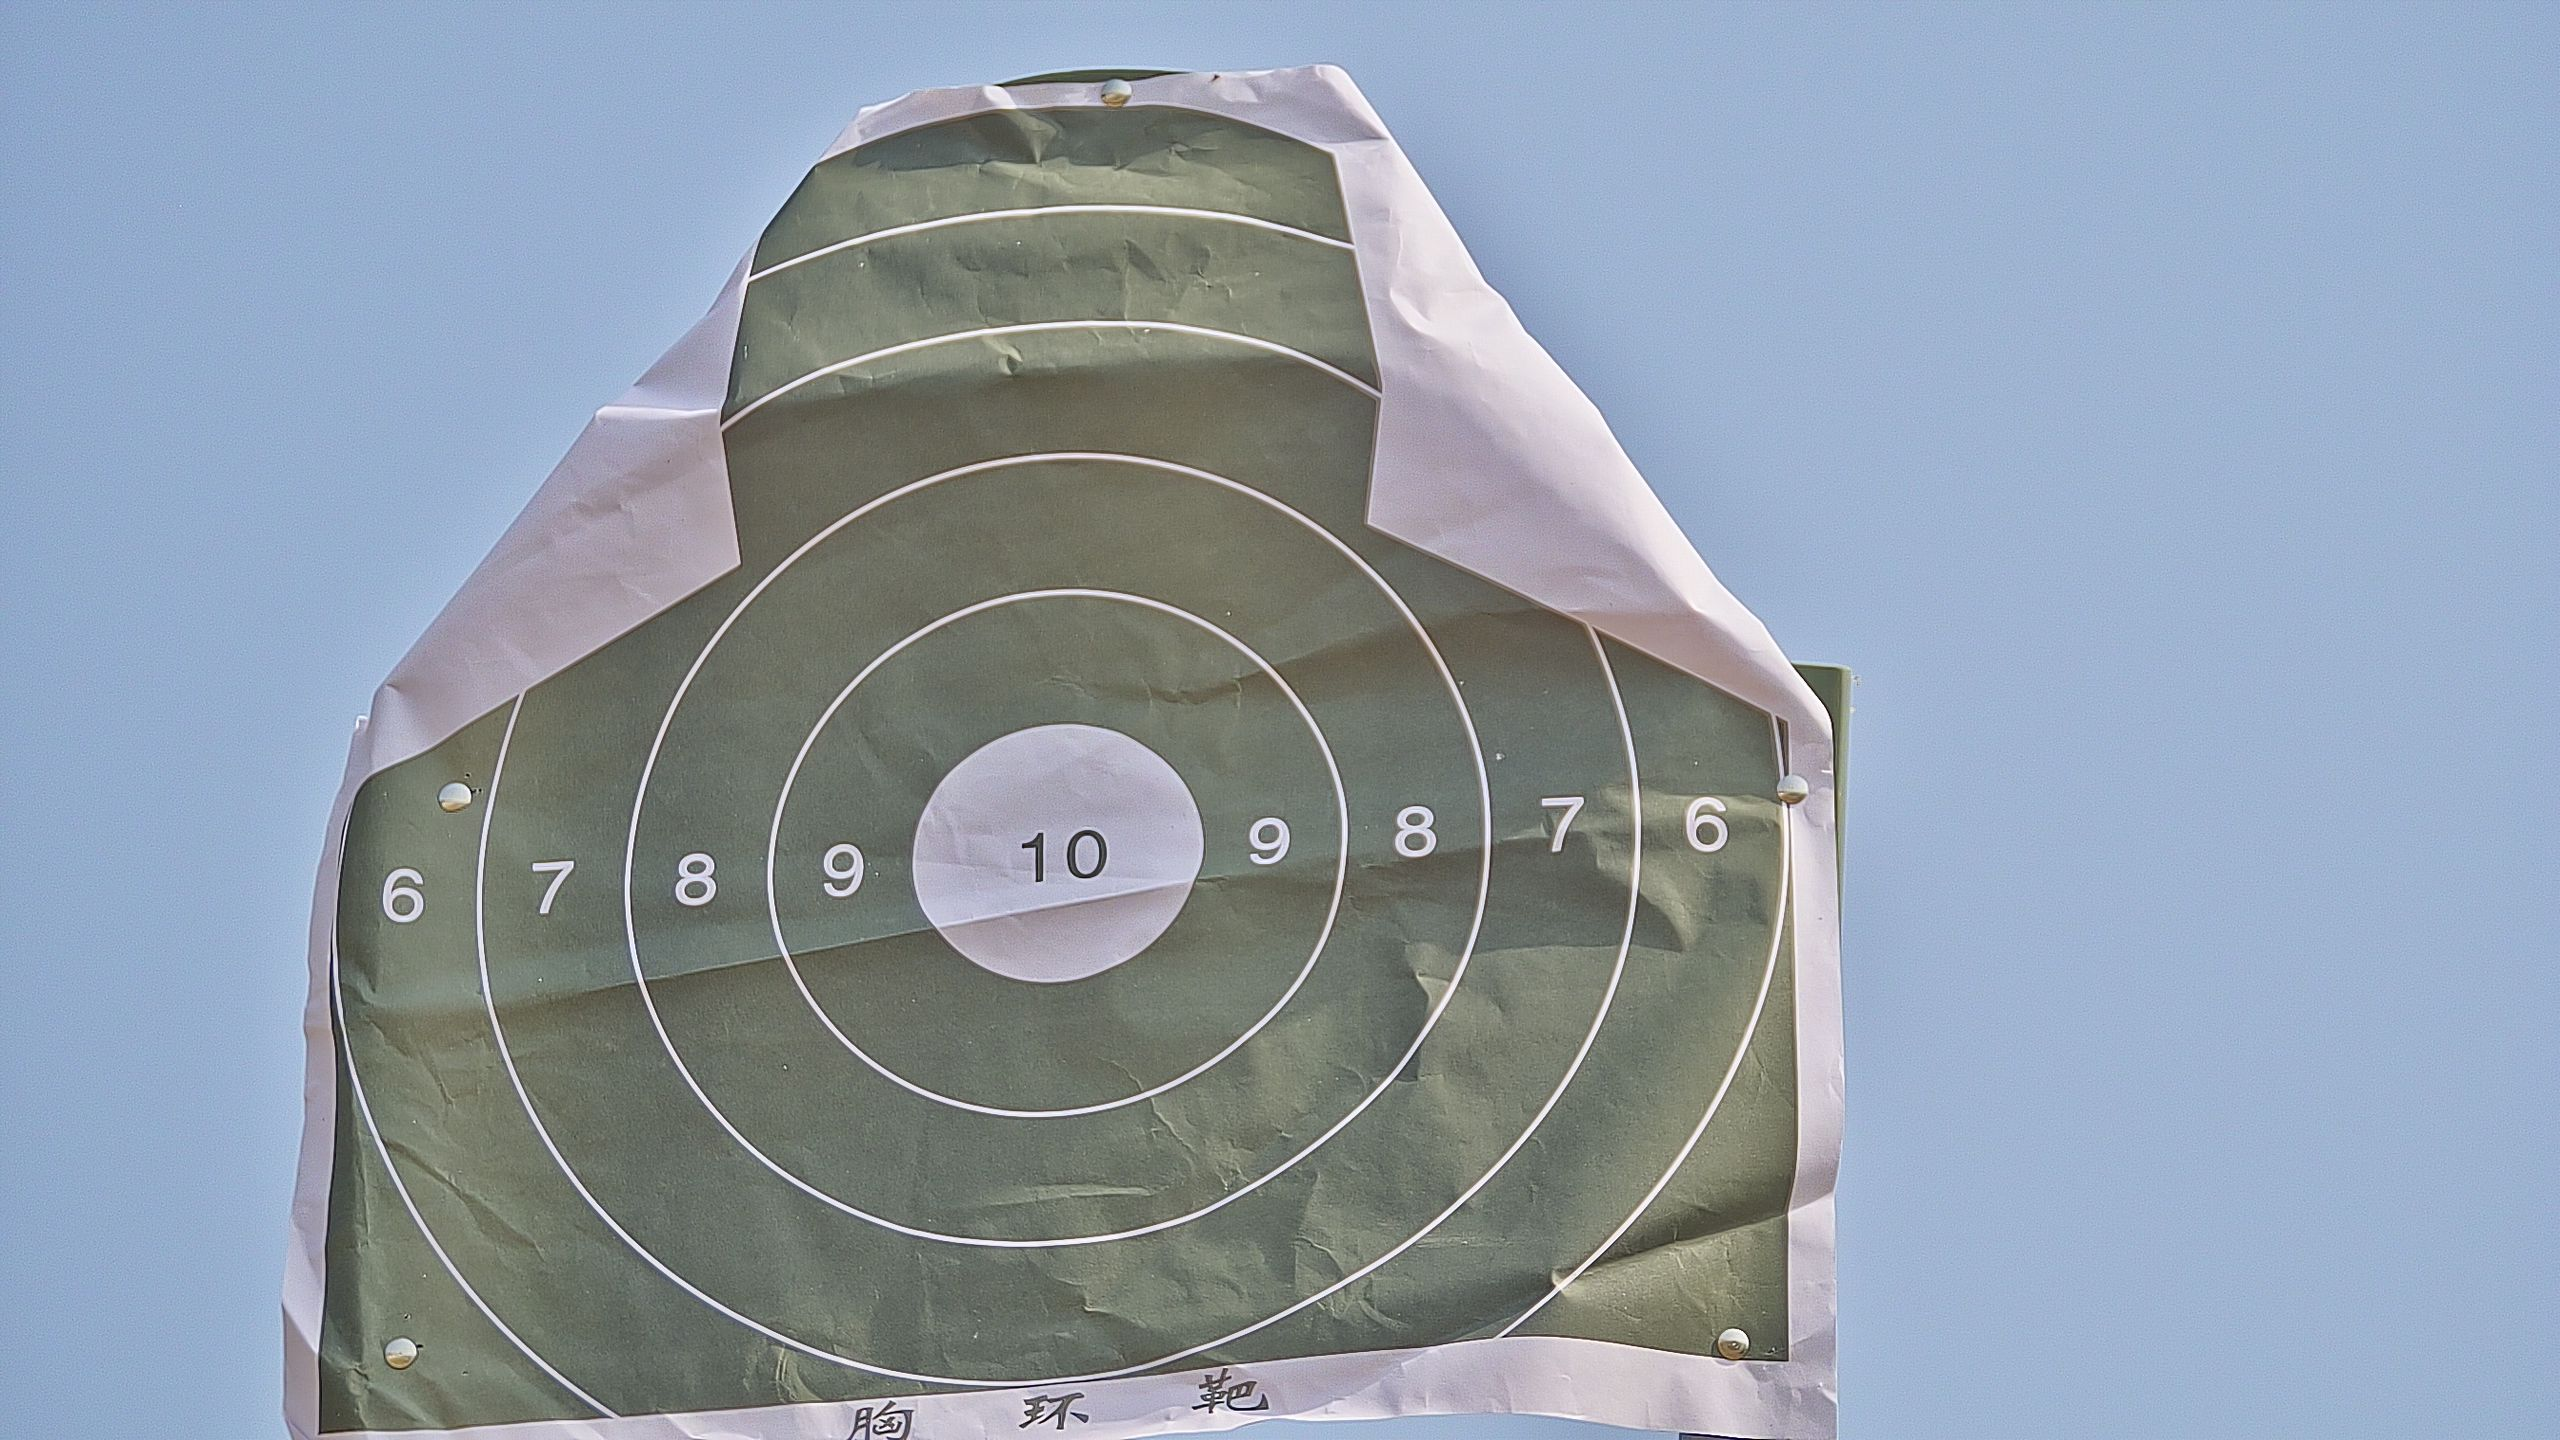kernel: (1051, 855, 1060, 858)
target: (325, 107, 1799, 1440)
ten: (907, 724, 1204, 985)
